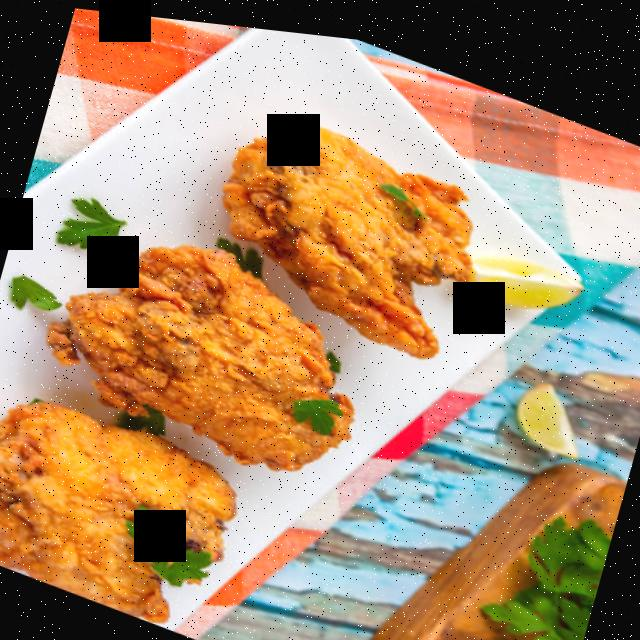Frango: (0, 20, 484, 640)
